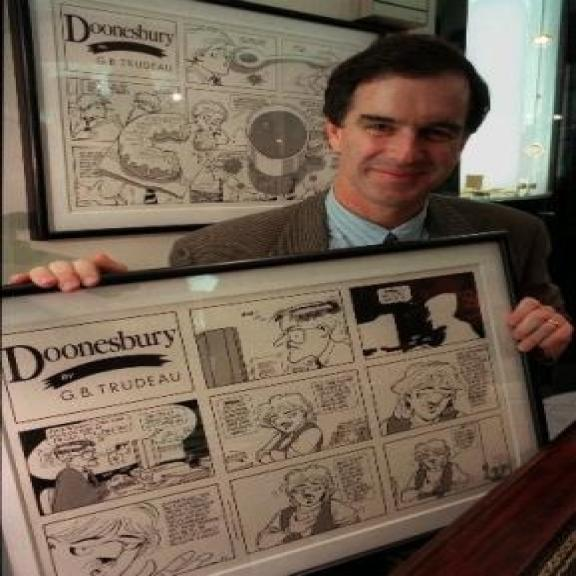face: (323, 76, 463, 203)
